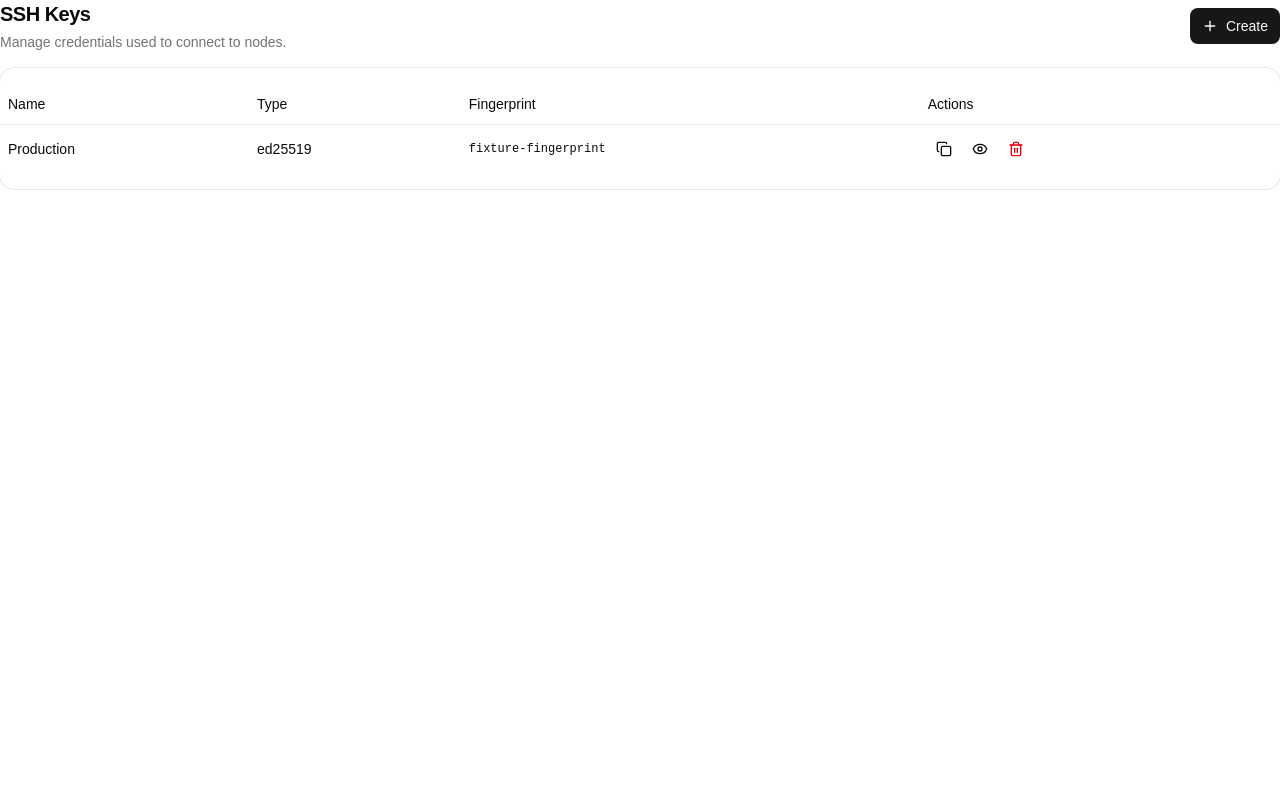
Test: blocks reveal after failed identity proof and supports an explicit retry
Step 1. Click the button named "Private Key (optional) · Production" → (980, 148), box [964,132,996,164]
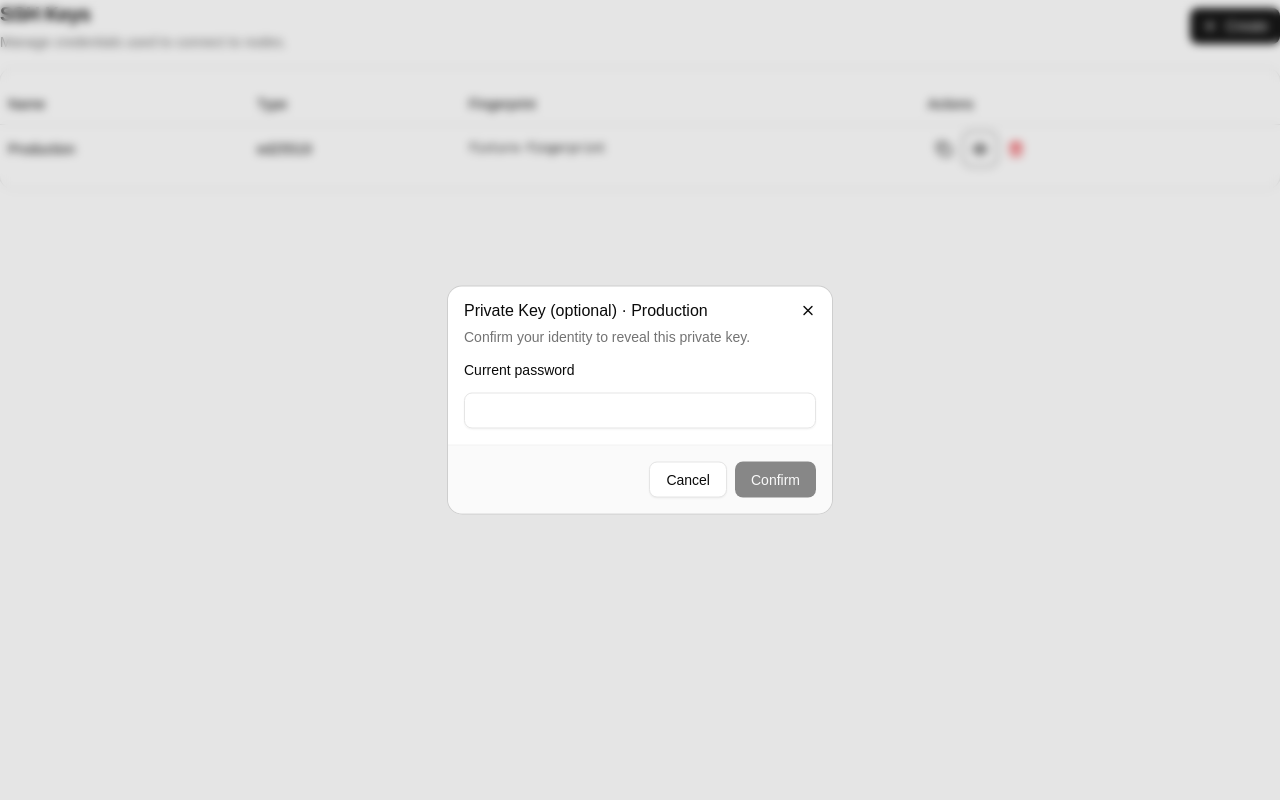
Step 2. Type "wrong-proof" into the password field labelled "Current password" → (640, 410), box [464,392,816,428]
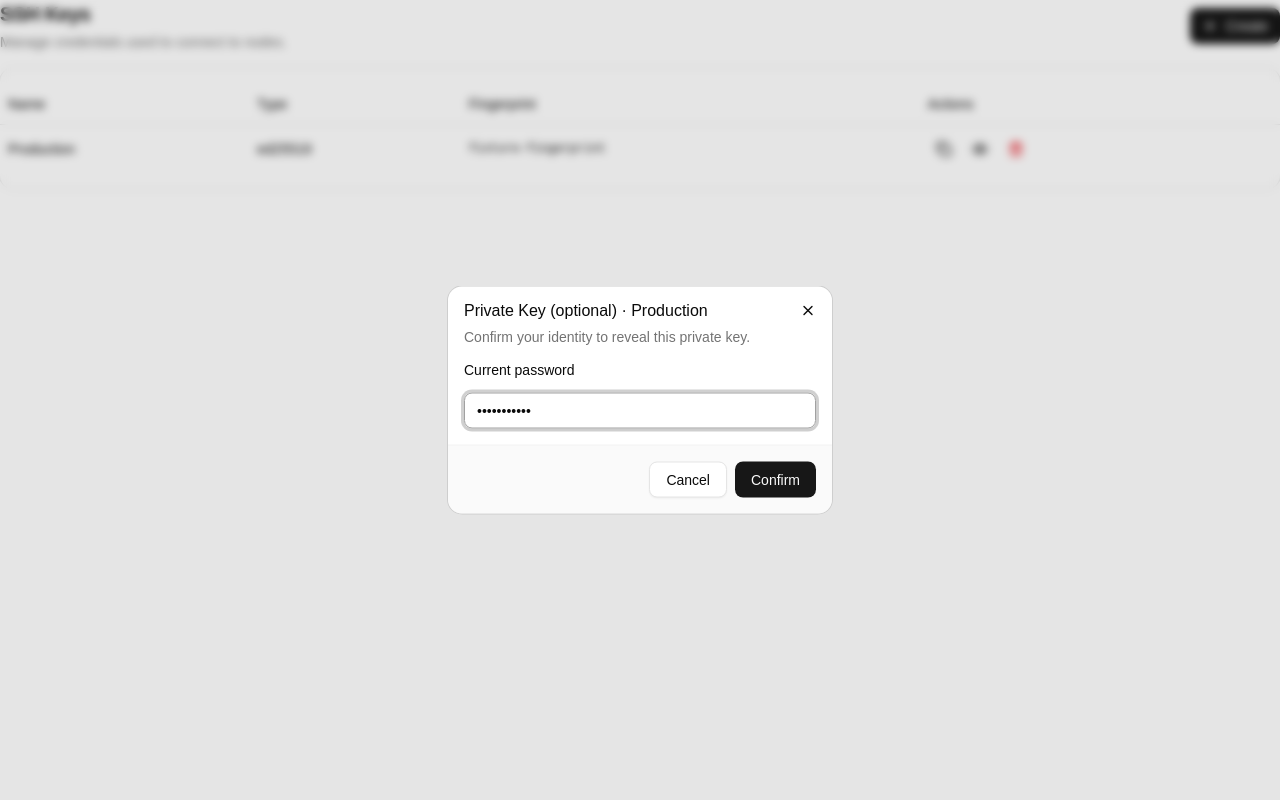
Step 3. Click the button "Confirm" → (776, 480), box [735,462,816,498]
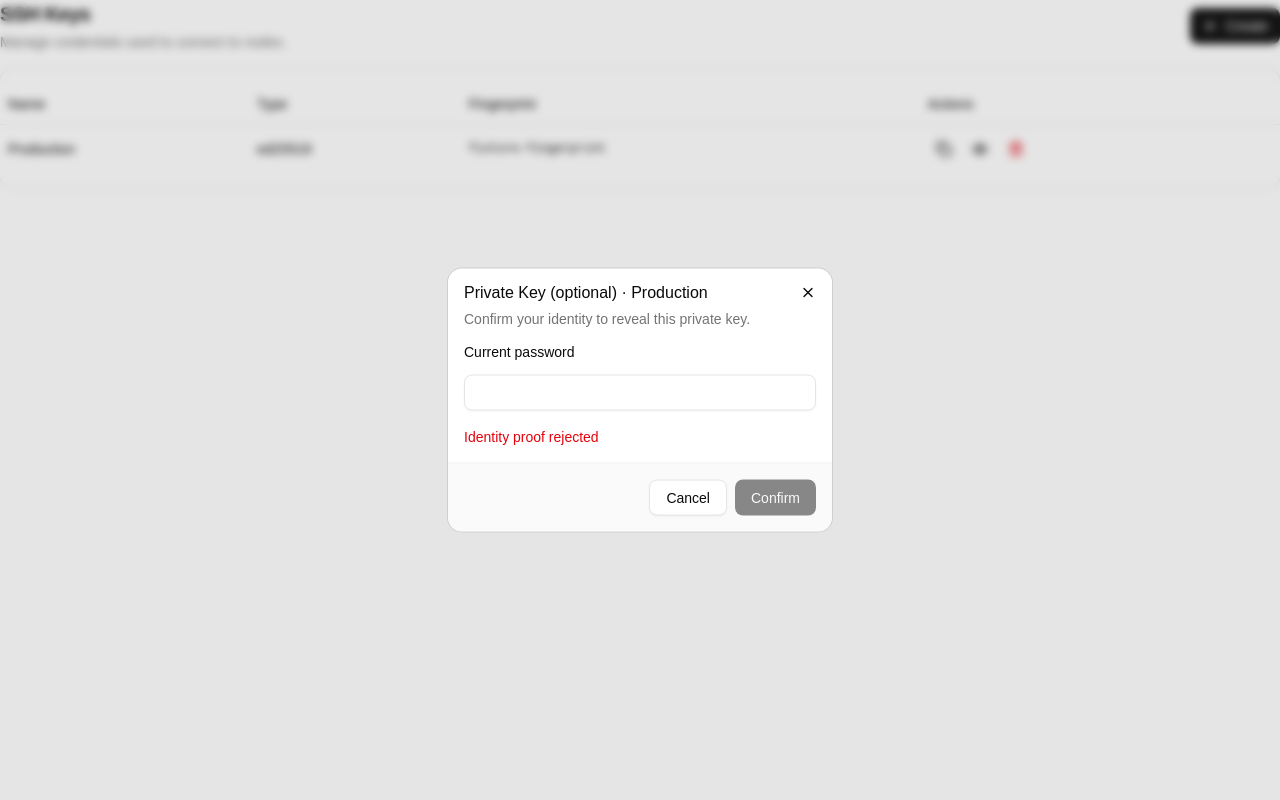
Expected: the message reads "Identity proof rejected", [464,428,599,444]
Step 4. Type "correct-proof" into the password field labelled "Current password" → (640, 392), box [464,374,816,410]
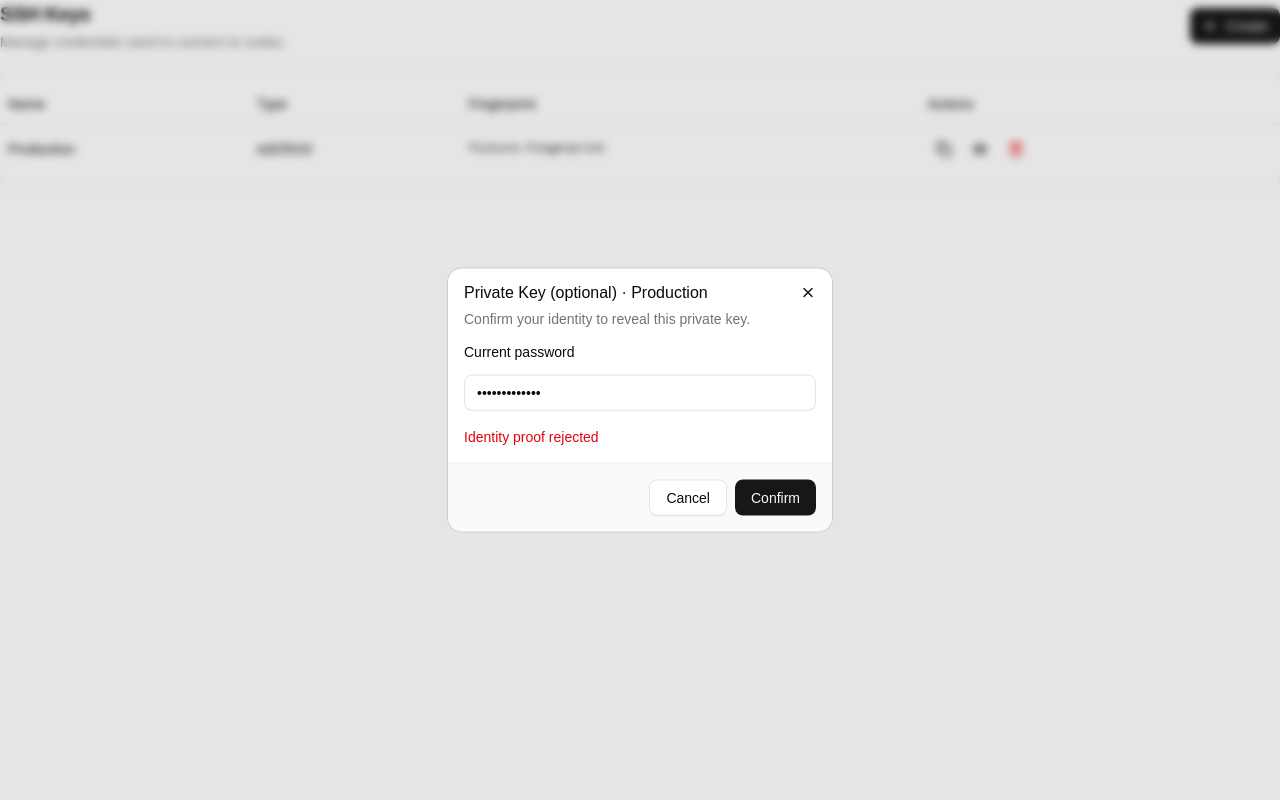
Step 5. Click the button "Confirm" → (776, 498), box [735,480,816,516]
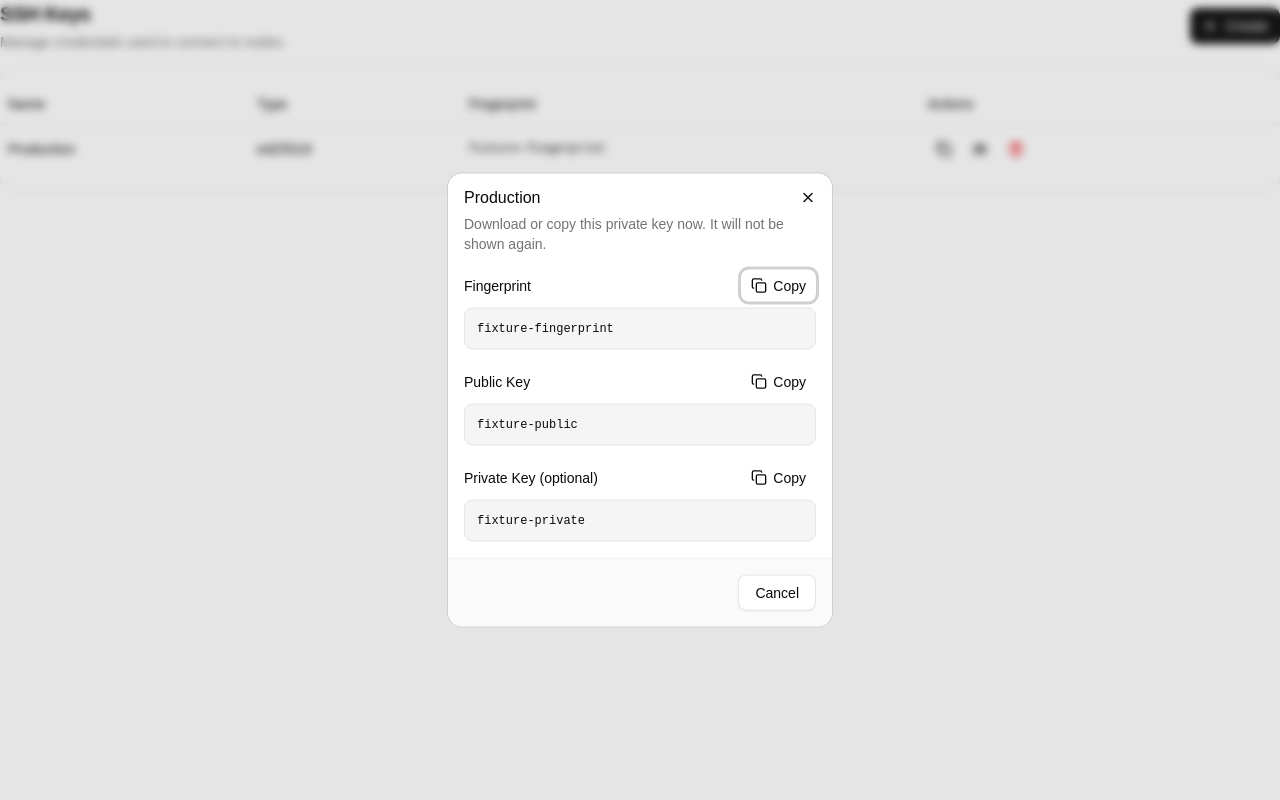
Expected: the text "fixture-private" is shown, [464,500,816,542]
